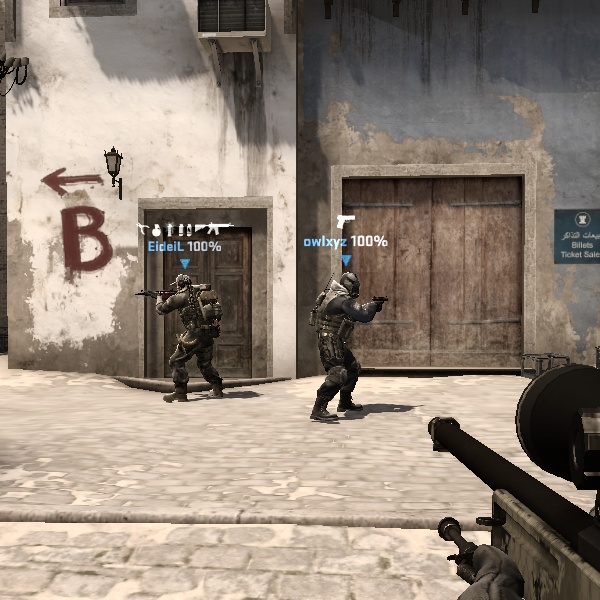ct_body: (301, 272, 386, 421), (156, 268, 235, 403)
ct_head: (332, 267, 366, 301), (168, 270, 198, 297)
